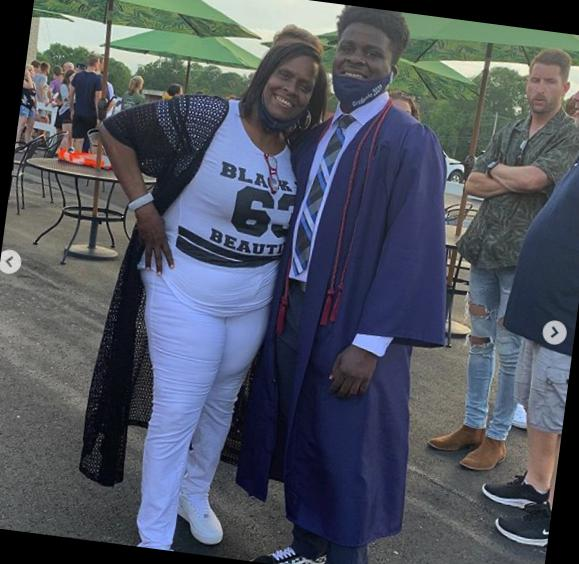mask_weared_incorrect: (330, 33, 392, 104), (262, 63, 313, 134)
without_mask: (526, 66, 564, 115), (569, 73, 579, 135)
